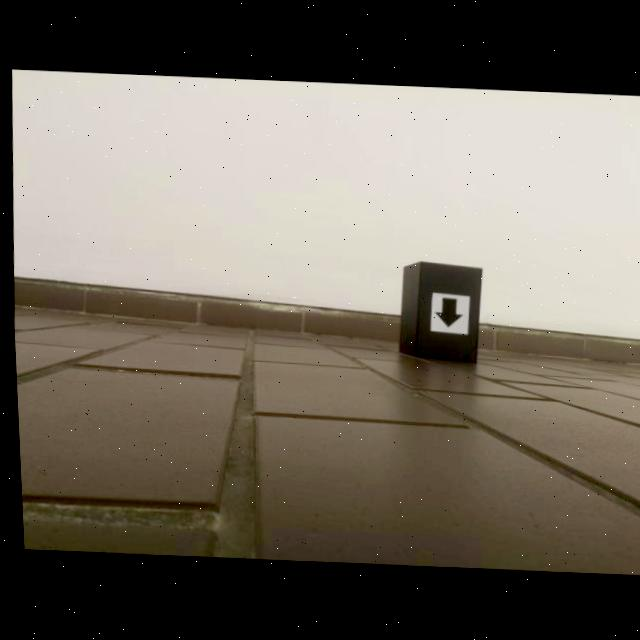DOWN: (431, 296, 460, 328)
